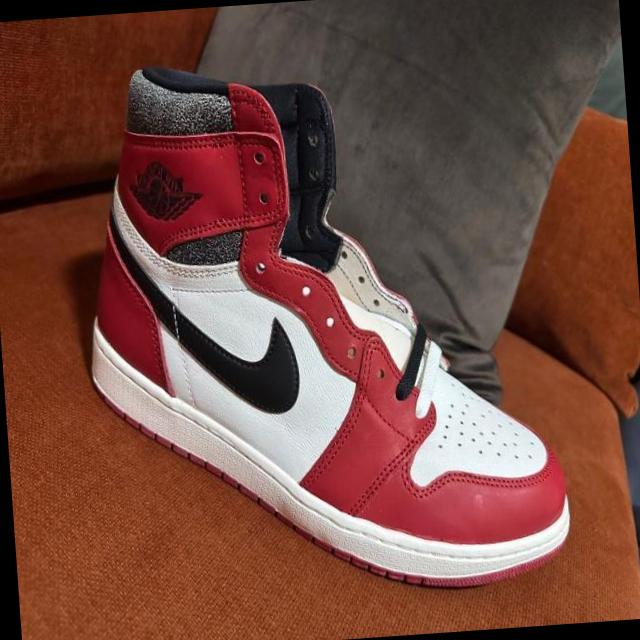nike_original_jordan: (69, 29, 578, 616)
